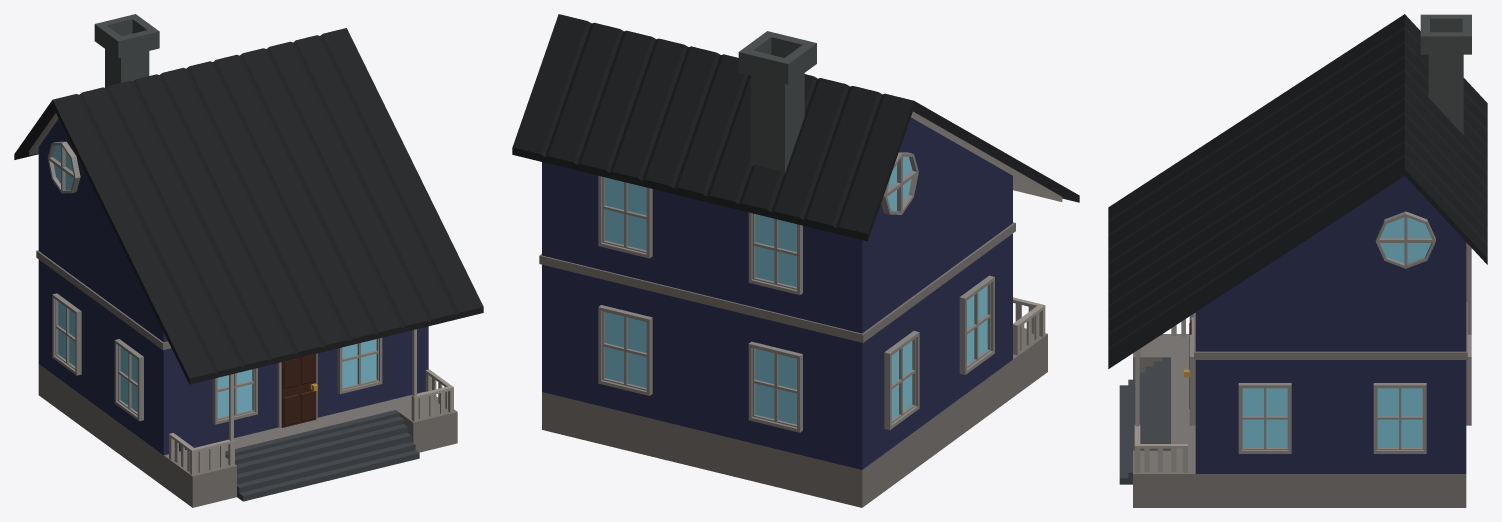
Rendered from SM_house_02_A.gltf.
3 renders of one model, left to right at view 1: azimuth 30°, elevation 25°; view 2: azimuth 150°, elevation 25°; view 3: azimuth 270°, elevation 25°, orthographic. The views are drawn at different scales.
Visible parts, largest first — view 1: SM_house_02_A; view 2: SM_house_02_A; view 3: SM_house_02_A.
Boxes of the visible parts, bbox=[...] form: SM_house_02_A: bbox=[14, 14, 483, 507]; SM_house_02_A: bbox=[512, 14, 1079, 507]; SM_house_02_A: bbox=[1108, 14, 1487, 507].
Bounding box in the file's own units: 2.97 × 3.42 × 3.06.
